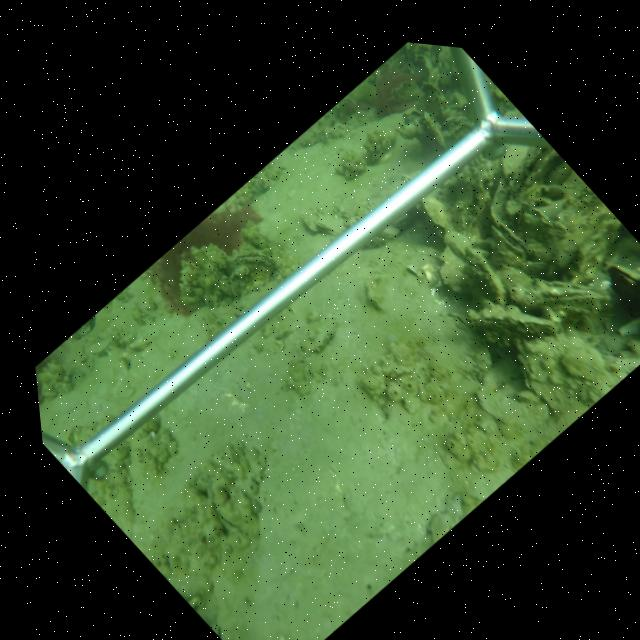Oyster-Closed: (465, 246, 507, 305), (515, 282, 609, 308), (467, 308, 556, 334), (606, 262, 640, 318), (311, 207, 347, 236)
Oyster-Indeterminate: (436, 244, 473, 301), (419, 195, 454, 231)
Oyster-Open: (489, 218, 530, 261), (231, 248, 283, 272)
